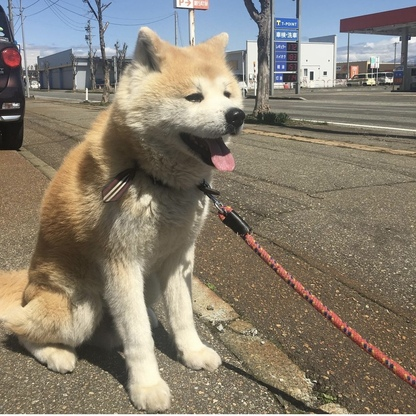akita: (2, 19, 253, 416)
